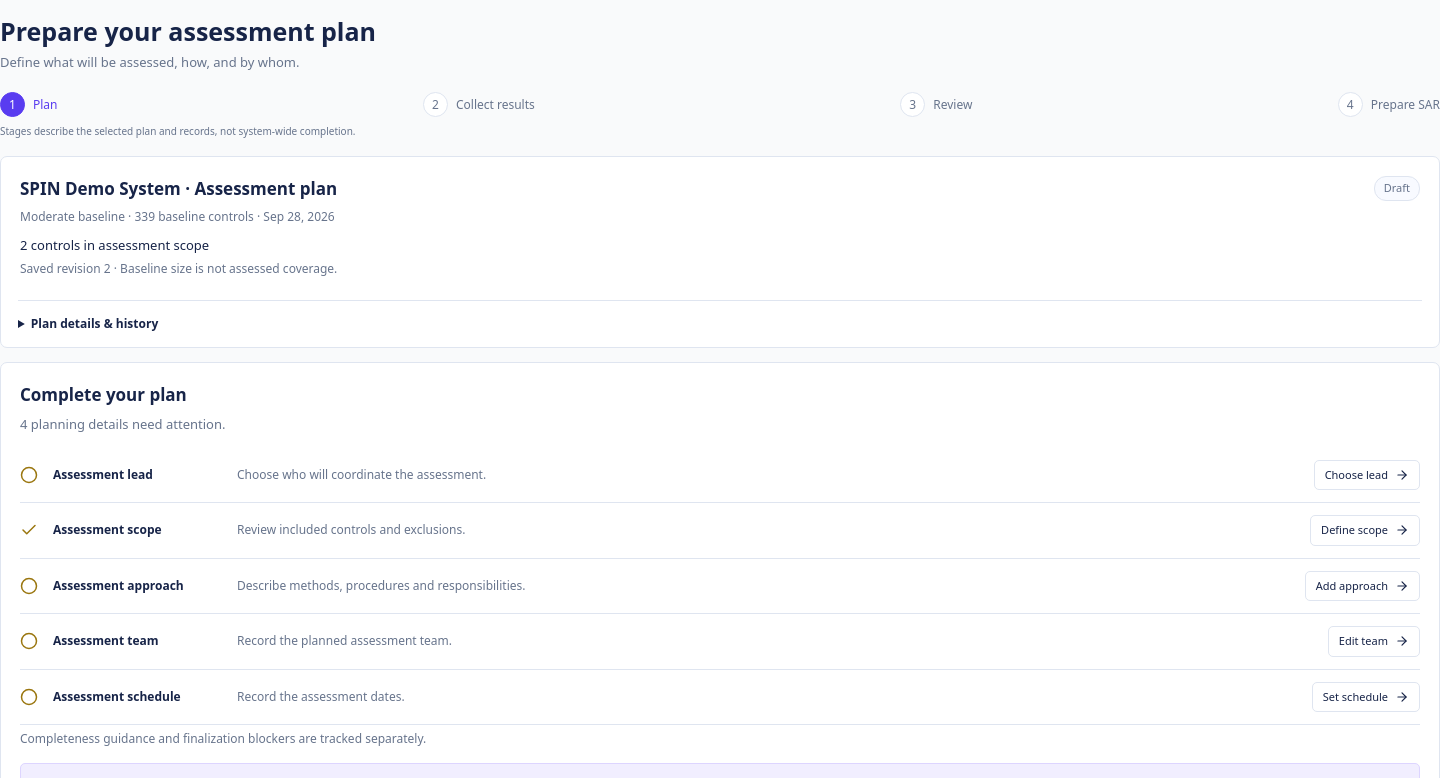
Test: Connected assessment workspace › groups saved-plan actions using the shared secondary style and retains their behavior
This screenshot has width=1440, height=778.
Click the heading "Plan details & history": [94, 324] box [31,315,158,332]
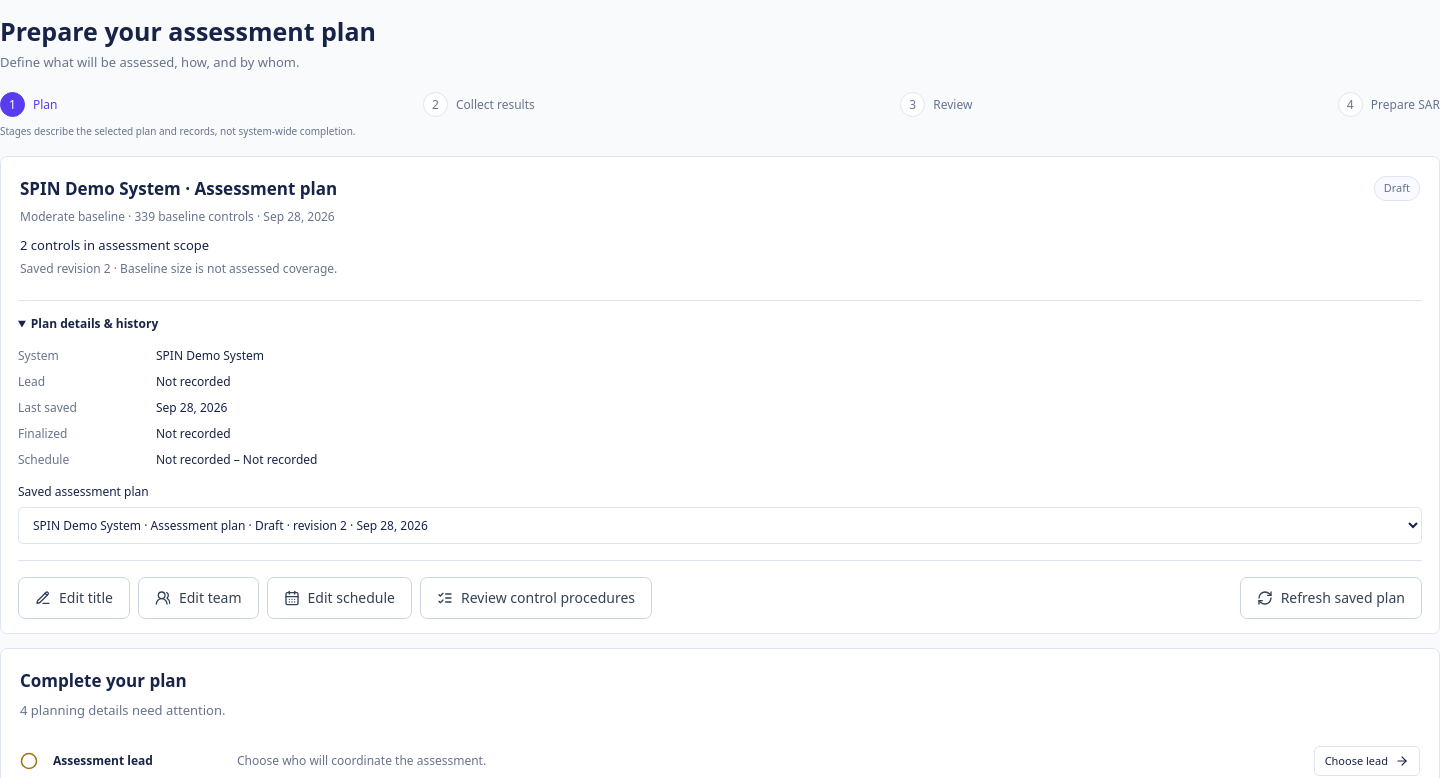
Check: the 1st icon is shown, box [35,590,51,606]
Click the button "Edit title": [74, 598] box [18,577,130,619]
(page scrolled)
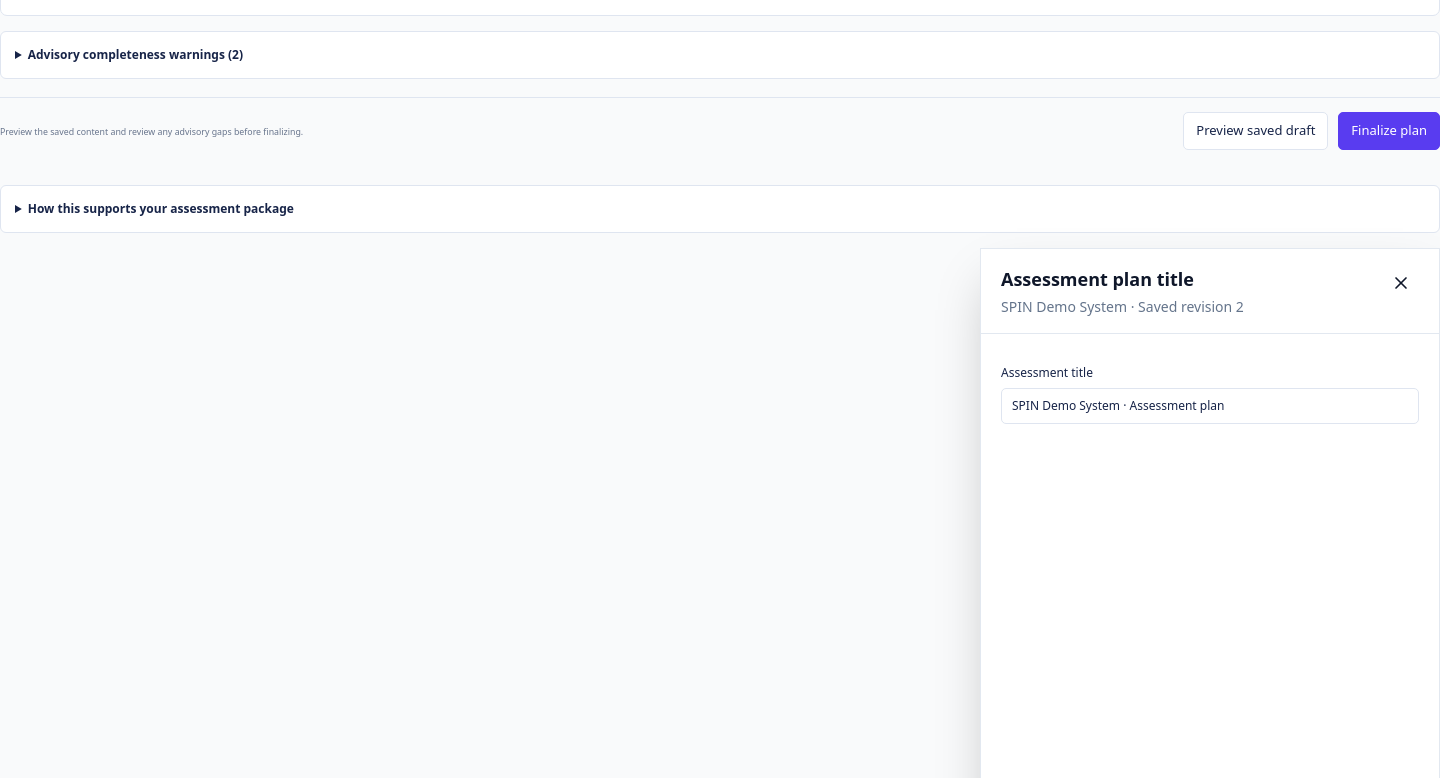
Check: the field labelled "Assessment title" holds "SPIN Demo System · Assessment plan", box [1001,388,1419,424]
